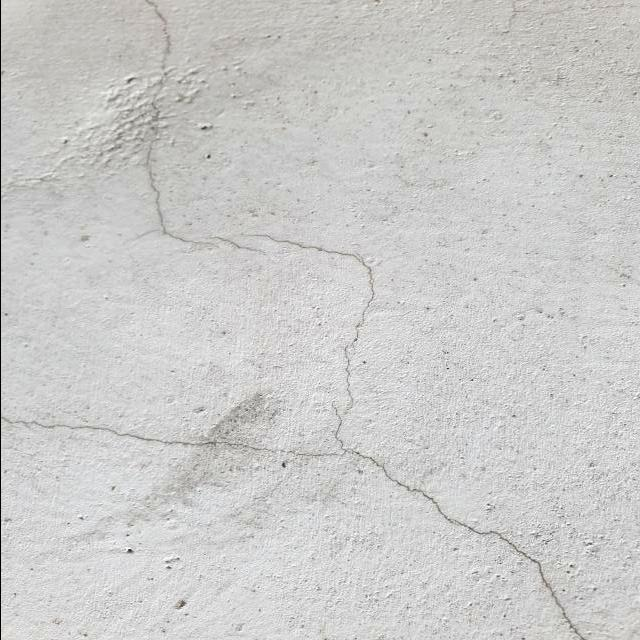SurfaceCrack: (300, 398, 638, 638)
